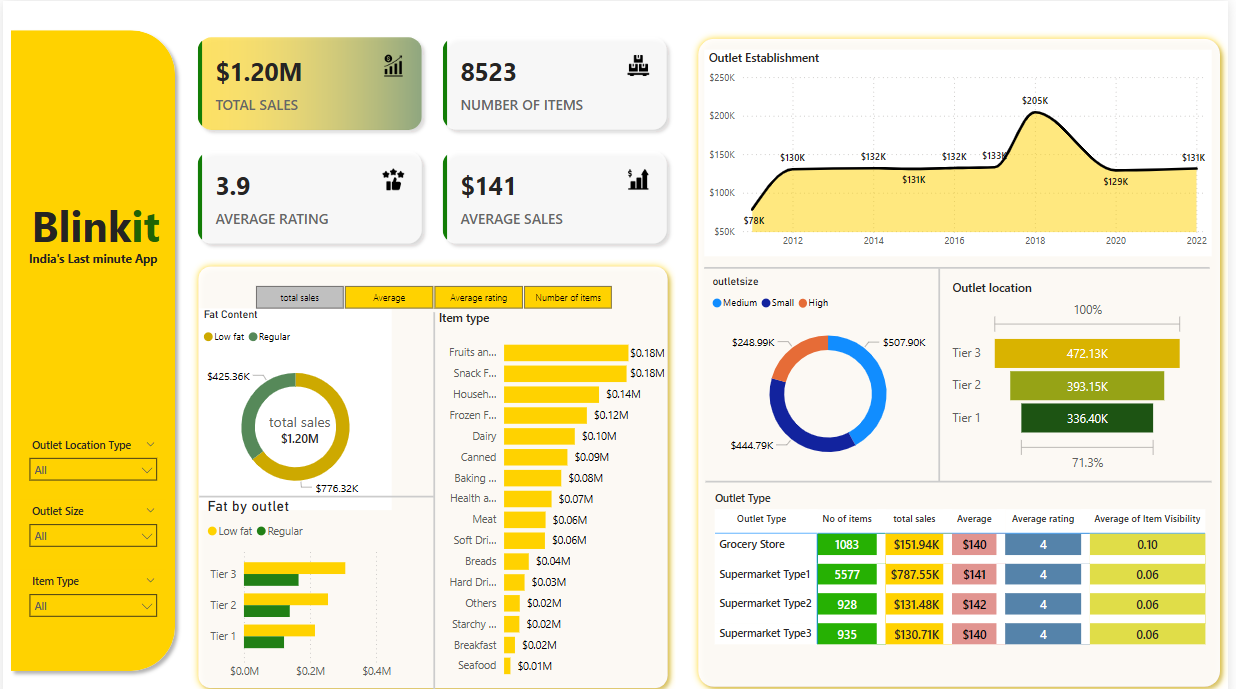

The page's visual inventory and layout, read from the dashboard file:
{"tool":"powerbi","page":{"name":"Page 1","canvas":[1400,800],"ordinal":0},"visuals":[{"type":"shape","box":[0,24.3,205.7,750],"z":0},{"type":"textbox","box":[12.9,218.6,185.7,100],"z":1000},{"type":"textbox","box":[10,280,185.7,51.4],"z":2000},{"type":"cardVisual","fields":{"Data":["BlinkIT Grocery Data.total sales","BlinkIT Grocery Data.Number of items","BlinkIT Grocery Data.Average rating","BlinkIT Grocery Data.Average"]},"box":[205.7,24.3,570,270],"z":3000},{"type":"shape","box":[214.3,294.3,554.3,500],"z":4000},{"type":"donutChart","title":"Fat Content ","fields":{"Y":["BlinkIT Grocery Data.total sales"],"Category":["BlinkIT Grocery Data.Item Fat Content"]},"box":[224.3,351.4,220,230],"z":5000},{"type":"slicer","fields":{"Values":["Add .Add "]},"box":[262.9,318.6,457.1,40],"z":6000},{"type":"cardVisual","fields":{"Data":["BlinkIT Grocery Data.total sales"]},"box":[278.6,442.6,121.4,92.9],"z":7000},{"type":"clusteredBarChart","title":"Fat by outlet","fields":{"Y":["BlinkIT Grocery Data.total sales"],"Category":["BlinkIT Grocery Data.Outlet Location Type"],"Series":["BlinkIT Grocery Data.Item Fat Content"]},"box":[228.6,566.9,220,217.4],"z":8000},{"type":"shape","box":[224.3,532.9,268.3,67.1],"z":9000},{"type":"shape","box":[472.9,356,40,431.4],"z":10000},{"type":"clusteredBarChart","title":"Item type ","fields":{"Y":["BlinkIT Grocery Data.total sales"],"Category":["BlinkIT Grocery Data.Item Type"]},"box":[492.9,352.9,268.3,431.4],"z":11000},{"type":"shape","box":[785.7,34,614.3,758.6],"z":12000},{"type":"lineChart","title":"Outlet Establishment","fields":{"Y":["BlinkIT Grocery Data.total sales"],"Category":["BlinkIT Grocery Data.Outlet Establishment Year"]},"box":[801.1,56.3,580,235.7],"z":13000},{"type":"donutChart","title":"outletsize","fields":{"Y":["BlinkIT Grocery Data.total sales"],"Category":["BlinkIT Grocery Data.Outlet Size"]},"box":[805.7,312.9,274.3,231.4],"z":14000},{"type":"shape","box":[801.4,287.1,578,35.7],"z":15000},{"type":"funnel","title":"Outlet location ","fields":{"Y":["Sum(BlinkIT Grocery Data.Sales)"],"Category":["BlinkIT Grocery Data.Outlet Location Type"]},"box":[1080,318.6,275,225],"z":16000},{"type":"shape","box":[802.9,531.4,578.6,35.7],"z":17000},{"type":"shape","box":[1050,305.7,40,244.3],"z":18000},{"type":"pivotTable","title":"Outlet Type","fields":{"Values":["BlinkIT Grocery Data.Number of items","BlinkIT Grocery Data.total sales","BlinkIT Grocery Data.Average","BlinkIT Grocery Data.Average rating","Avg(BlinkIT Grocery Data.Item Visibility)"],"Rows":["BlinkIT Grocery Data.Outlet Type"]},"box":[808.6,560,572.9,224.3],"z":19000},{"type":"slicer","fields":{"Values":["BlinkIT Grocery Data.Outlet Location Type"]},"box":[19.4,494,165.7,77.1],"z":20000},{"type":"slicer","fields":{"Values":["BlinkIT Grocery Data.Outlet Size"]},"box":[19.4,569.7,165.7,77.1],"z":21000},{"type":"slicer","fields":{"Values":["BlinkIT Grocery Data.Item Type"]},"box":[19.4,649.7,165.7,77.1],"z":22000}]}

Visuals, with their boxes in screenshot pixels (x1, y1, x2, y2), scaled from the page's 1400x800 canvas onto the 1236x689 screenshot:
shape: bbox=[0, 21, 182, 667]
textbox: bbox=[11, 188, 175, 274]
textbox: bbox=[9, 241, 173, 285]
cardVisual - BlinkIT Grocery Data.total sales x BlinkIT Grocery Data.Number of items: bbox=[182, 21, 685, 253]
shape: bbox=[189, 253, 679, 684]
"Fat Content " donutChart: bbox=[198, 303, 392, 501]
slicer - Add .Add : bbox=[232, 274, 636, 309]
cardVisual - BlinkIT Grocery Data.total sales: bbox=[246, 381, 353, 461]
"Fat by outlet" clusteredBarChart: bbox=[202, 488, 396, 675]
shape: bbox=[198, 459, 435, 517]
shape: bbox=[418, 307, 453, 678]
"Item type " clusteredBarChart: bbox=[435, 304, 672, 675]
shape: bbox=[694, 29, 1235, 683]
"Outlet Establishment" lineChart: bbox=[707, 48, 1219, 251]
"outletsize" donutChart: bbox=[711, 269, 953, 469]
shape: bbox=[708, 247, 1218, 278]
"Outlet location " funnel: bbox=[953, 274, 1196, 468]
shape: bbox=[709, 458, 1220, 488]
shape: bbox=[927, 263, 962, 474]
"Outlet Type" pivotTable: bbox=[714, 482, 1220, 675]
slicer - BlinkIT Grocery Data.Outlet Location Type: bbox=[17, 425, 163, 492]
slicer - BlinkIT Grocery Data.Outlet Size: bbox=[17, 491, 163, 557]
slicer - BlinkIT Grocery Data.Item Type: bbox=[17, 560, 163, 626]
